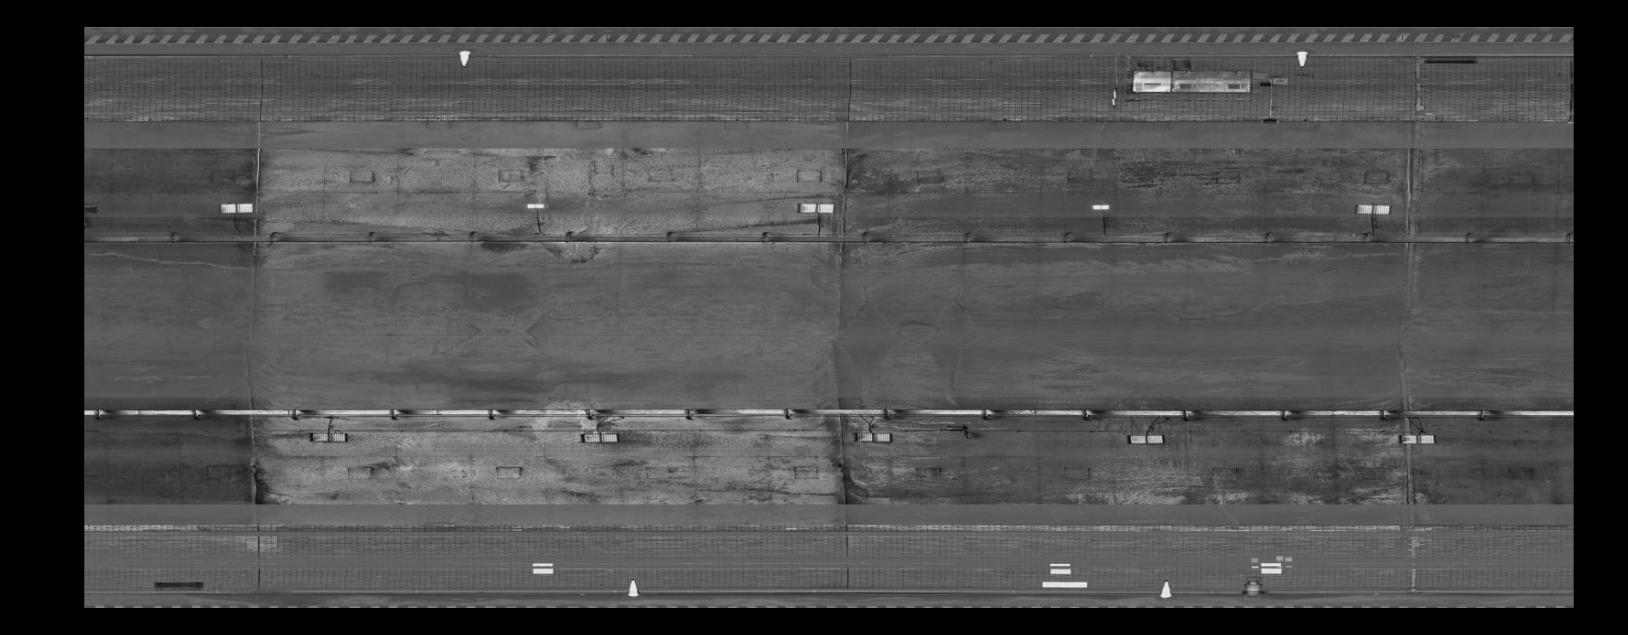light: (304, 427, 351, 446), (849, 427, 895, 446), (574, 430, 621, 447), (1122, 431, 1169, 448), (1350, 201, 1394, 217), (1395, 431, 1439, 446), (796, 199, 837, 215), (214, 199, 255, 214), (1086, 202, 1116, 211), (521, 201, 550, 210)
